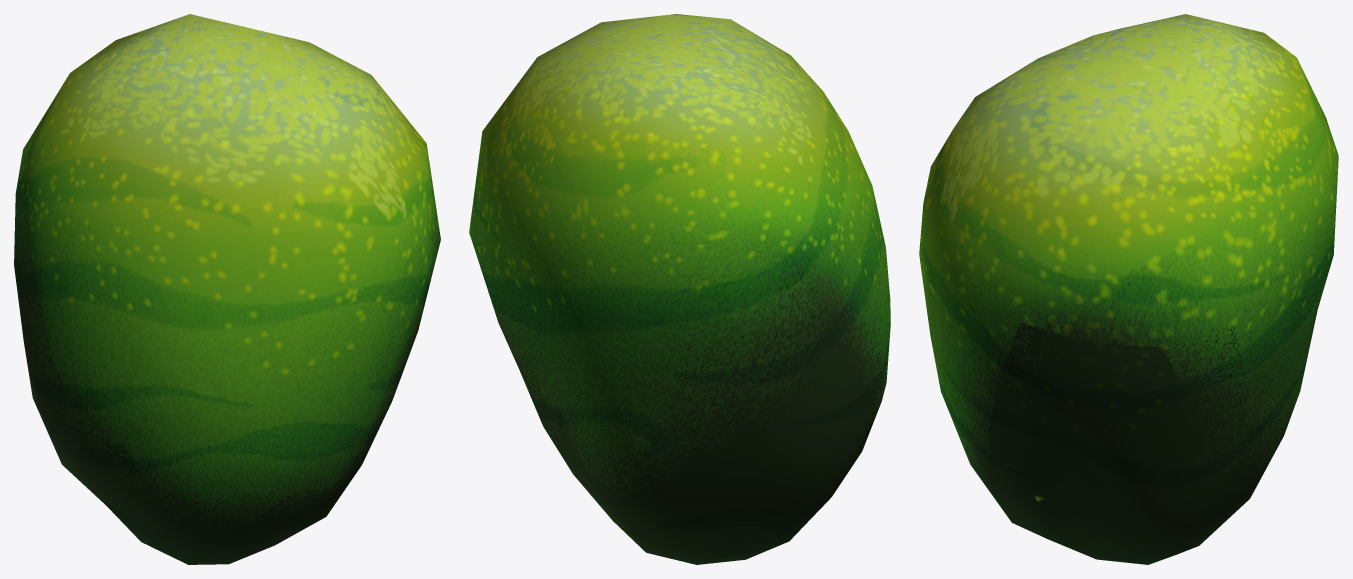
Rendered from shrub-round-1.fbx.
The picture shows the model from 3 angles, left to right: view 1: azimuth 30°, elevation 25°; view 2: azimuth 150°, elevation 25°; view 3: azimuth 270°, elevation 25°; orthographic projection. The views are drawn at different scales.
Visible parts, largest first — view 1: Icosphere; view 2: Icosphere; view 3: Icosphere.
Part boxes in pixels (left/top/right/bottom): Icosphere: left=14, top=14, right=440, bottom=564; Icosphere: left=469, top=14, right=890, bottom=564; Icosphere: left=919, top=14, right=1338, bottom=564.
Bounding box in the file's own units: 237 × 311 × 223.
Materials: 1 (1 with a texture image).
